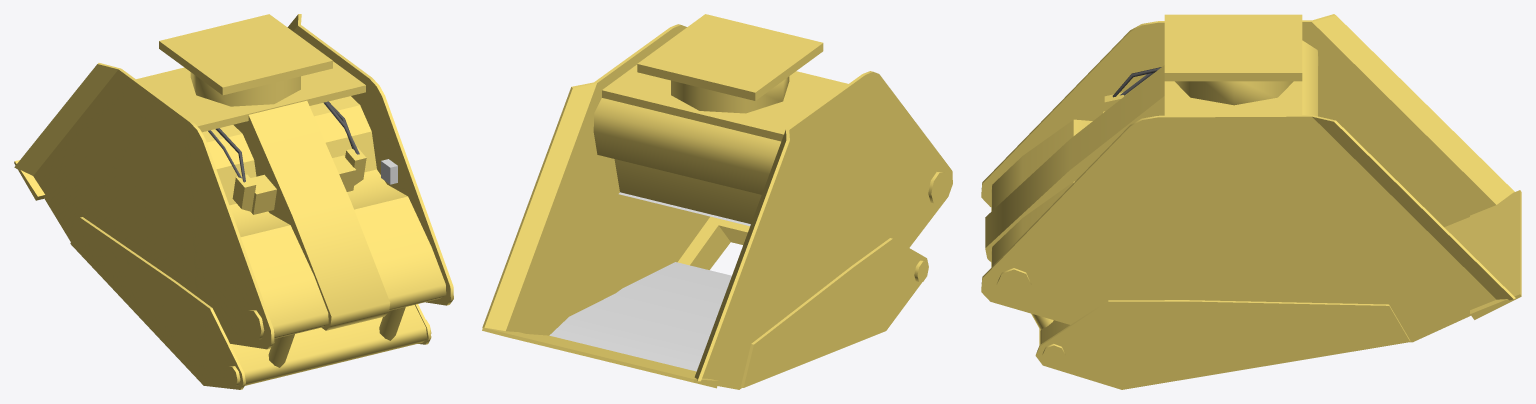
3 renders of one model, left to right at view 1: azimuth 30°, elevation 25°; view 2: azimuth 150°, elevation 25°; view 3: azimuth 270°, elevation 25°, orthographic. The views are drawn at different scales.
Parts seen in each view (by area): view 1: BC 3700; view 2: BC 3700; view 3: BC 3700.
Boxes of the visible parts, <box> form: BC 3700: <box>14,14,453,389</box>; BC 3700: <box>482,14,952,389</box>; BC 3700: <box>981,14,1521,389</box>.
Bounding box in the file's own units: 123 × 158 × 261.
